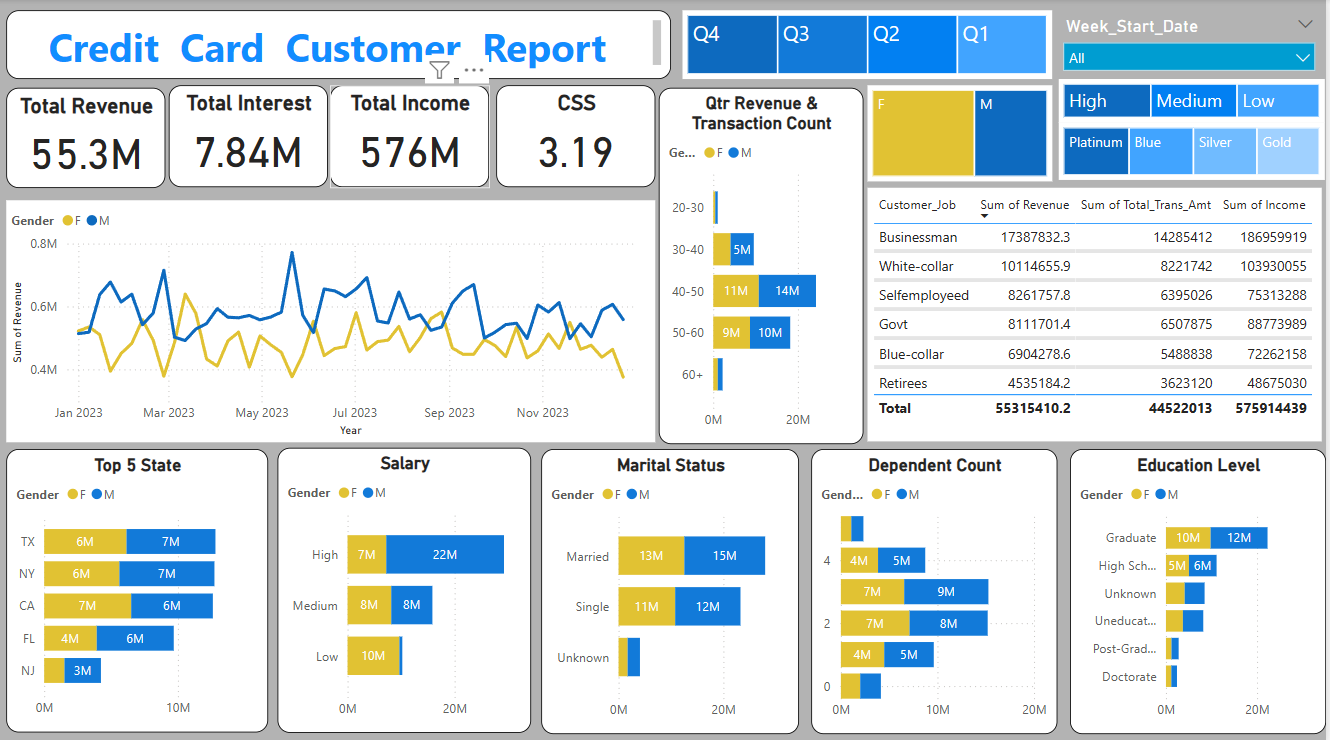

Layout of this report page (visuals, bound fields, positions):
{"tool":"powerbi","page":{"name":"Page 2","canvas":[1280,720],"ordinal":0},"visuals":[{"type":"textbox","box":[0,0,534.3,69.6],"z":0},{"type":"card","title":"Total Revenue","fields":{"Values":["Sum(ccdb credit_card.Revenue)"]},"box":[0,84.2,139.3,77.7],"z":1000},{"type":"card","title":"Total Interest","fields":{"Values":["Sum(ccdb credit_card.Interest_Earned)"]},"box":[139.3,84.2,132.8,77.7],"z":2000},{"type":"card","title":"Total Income","fields":{"Values":["Sum(ccdb customer.Income)"]},"box":[272,84.2,136,77.7],"z":3000},{"type":"card","title":"CSS","fields":{"Values":["Sum(ccdb customer.Cust_Satisfaction_Score)"]},"box":[408,84.2,126.3,77.7],"z":4000},{"type":"treemap","fields":{"Group":["ccdb credit_card.Qtr","ccdb credit_card.Revenue"],"Values":["Sum(ccdb credit_card.Revenue)"]},"box":[542.4,0,438.8,69.6],"z":5000},{"type":"treemap","fields":{"Group":["ccdb customer.Incomegroup"],"Values":["CountNonNull(ccdb credit_card.Client_Num)"]},"box":[923,76.1,357.8,53.4],"z":6000},{"type":"treemap","fields":{"Group":["ccdb customer.Gender"],"Values":["Avg(ccdb credit_card.Client_Num)"]},"box":[785.8,76.3,133.6,124.1],"z":7000},{"type":"slicer","fields":{"Values":["ccdb credit_card.Week_Start_Date"]},"box":[994.2,8.1,273.6,61.5],"z":8000},{"type":"treemap","fields":{"Group":["ccdb credit_card.Card_Category"],"Values":["Avg(ccdb credit_card.Client_Num)"]},"box":[923,129.5,357.8,71.2],"z":9000},{"type":"tableEx","fields":{"Values":["ccdb customer.Customer_Job","Sum(ccdb credit_card.Revenue)","Sum(ccdb credit_card.Total_Trans_Amt)","Sum(ccdb customer.Income)"]},"box":[785.3,200.8,495.5,268.8],"z":10000},{"type":"barChart","title":" Education_Level ","fields":{"Category":["ccdb customer.Education_Level"],"Y":["Sum(ccdb credit_card.Revenue)"],"Series":["ccdb customer.Gender"]},"box":[1008.8,484.1,272,236.4],"z":11000},{"type":"barChart","title":"  Dependent_Count ","fields":{"Category":["ccdb customer.Dependent_Count"],"Y":["Sum(ccdb credit_card.Revenue)"],"Series":["ccdb customer.Gender"]},"box":[762.7,484.1,236.4,236.4],"z":12000},{"type":"barChart","title":"Marital_Status ","fields":{"Category":["ccdb customer.Marital_Status"],"Y":["Sum(ccdb credit_card.Revenue)"],"Series":["ccdb customer.Gender"]},"box":[492.2,484.1,255.8,236.4],"z":13000},{"type":"barChart","title":" Salary","fields":{"Category":["ccdb customer.Incomegroup"],"Y":["Sum(ccdb credit_card.Revenue)"],"Series":["ccdb customer.Gender"]},"box":[242.9,484.1,228.3,236.4],"z":14000},{"type":"barChart","title":" Top 5 State","fields":{"Category":["ccdb customer.state_cd"],"Y":["Sum(ccdb credit_card.Revenue)"],"Series":["ccdb customer.Gender"]},"box":[0,484.1,220.2,225.1],"z":15000},{"type":"barChart","fields":{"Y":["Sum(ccdb credit_card.Revenue)"],"Series":["ccdb customer.Gender"],"Category":["ccdb credit_card.Qtr"]},"box":[542.4,84.2,231.5,385.4],"z":16000},{"type":"lineChart","fields":{"Y":["Sum(ccdb credit_card.Revenue)"],"Series":["ccdb customer.Gender"],"Category":["ccdb credit_card.Week_Start_Date"]},"box":[13,178.1,521.4,291.5],"z":17000}]}

Visuals, with their boxes in screenshot pixels (x1, y1, x2, y2), scaled from the page's 1280x720 canvas onto the 1330x740 screenshot:
textbox: Rect(0, 0, 555, 72)
"Total Revenue" card: Rect(0, 87, 145, 166)
"Total Interest" card: Rect(145, 87, 283, 166)
"Total Income" card: Rect(283, 87, 424, 166)
"CSS" card: Rect(424, 87, 555, 166)
treemap - ccdb credit_card.Qtr x ccdb credit_card.Revenue: Rect(564, 0, 1020, 72)
treemap - ccdb customer.Incomegroup x CountNonNull(ccdb credit_card.Client_Num): Rect(959, 78, 1329, 133)
treemap - ccdb customer.Gender x Avg(ccdb credit_card.Client_Num): Rect(816, 78, 955, 206)
slicer - ccdb credit_card.Week_Start_Date: Rect(1033, 8, 1317, 72)
treemap - ccdb credit_card.Card_Category x Avg(ccdb credit_card.Client_Num): Rect(959, 133, 1329, 206)
tableEx - ccdb customer.Customer_Job x Sum(ccdb credit_card.Revenue): Rect(816, 206, 1329, 483)
" Education_Level " barChart: Rect(1048, 498, 1329, 739)
"  Dependent_Count " barChart: Rect(792, 498, 1038, 739)
"Marital_Status " barChart: Rect(511, 498, 777, 739)
" Salary" barChart: Rect(252, 498, 490, 739)
" Top 5 State" barChart: Rect(0, 498, 229, 729)
barChart - Sum(ccdb credit_card.Revenue) x ccdb customer.Gender: Rect(564, 87, 804, 483)
lineChart - Sum(ccdb credit_card.Revenue) x ccdb customer.Gender: Rect(14, 183, 555, 483)
